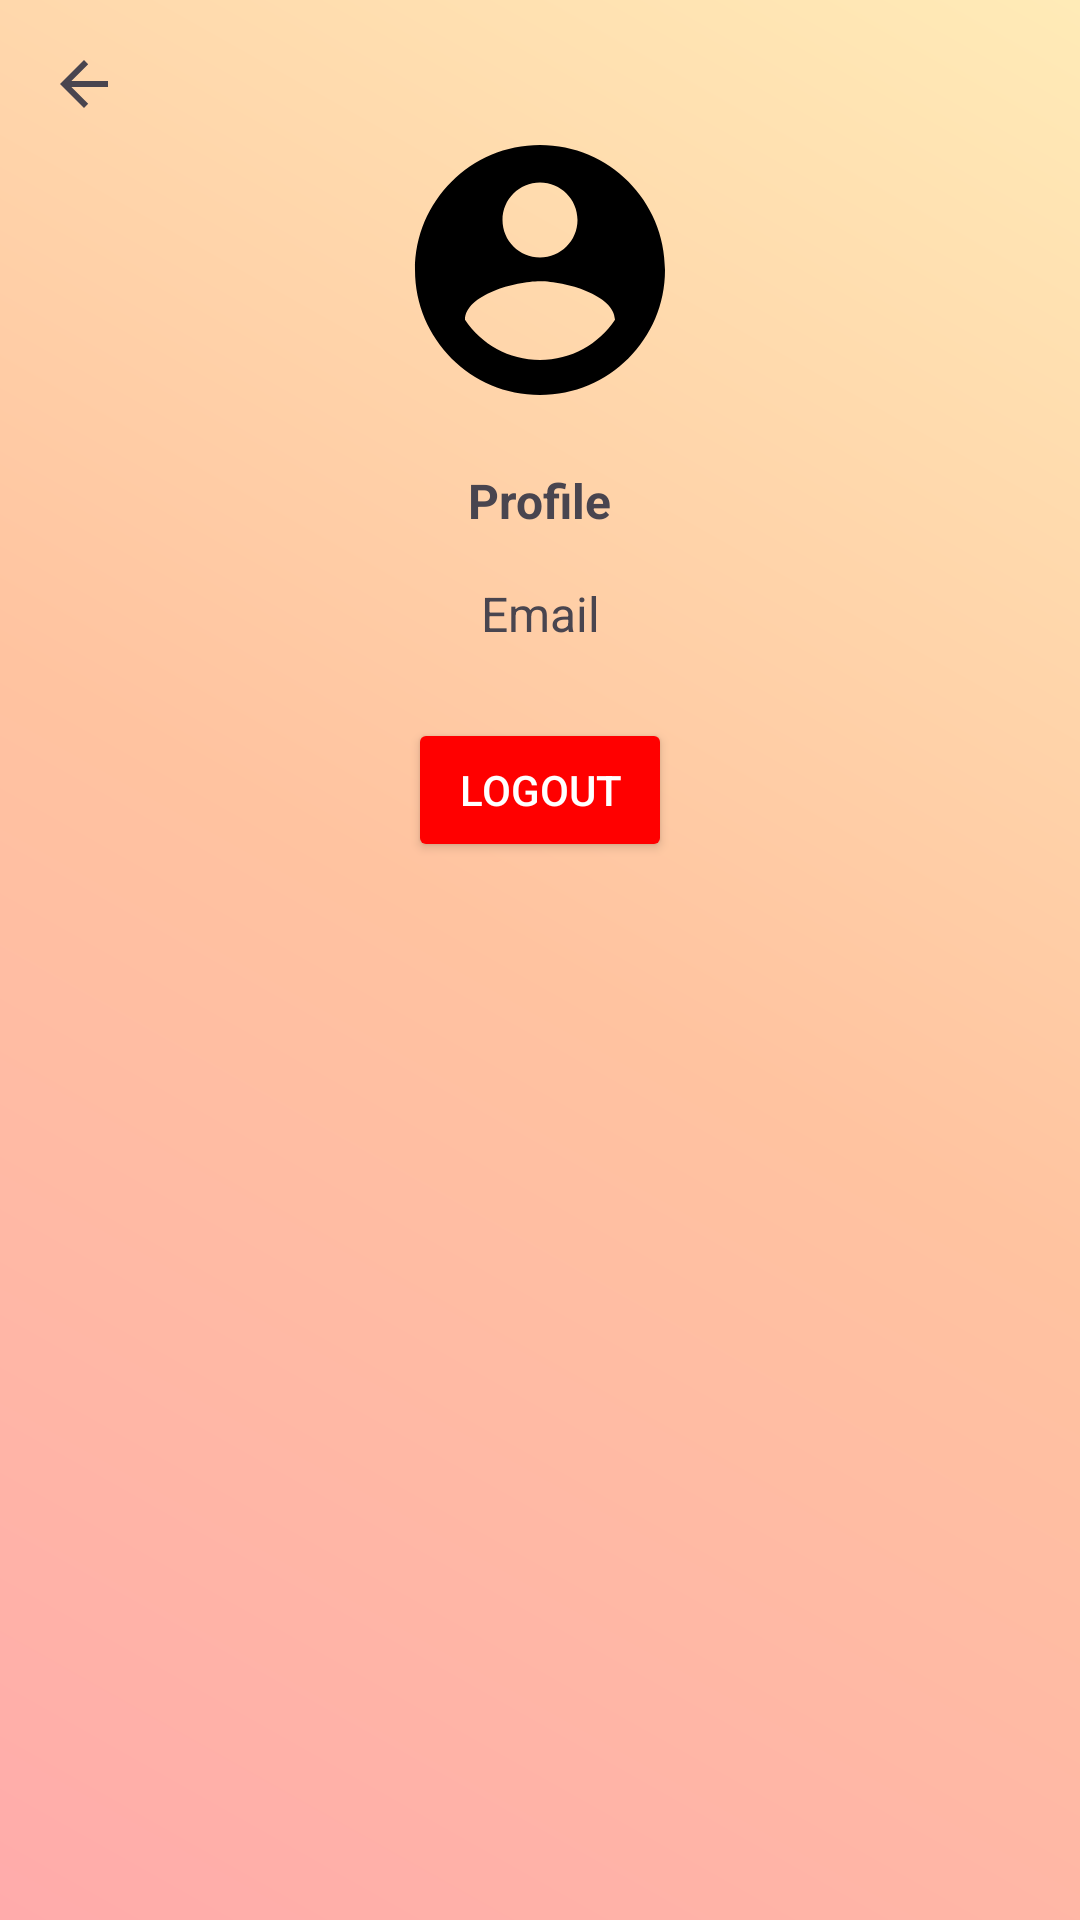

Screen size 1080w x 1920h. Icon name, then its center in pixels as point (x, y):
username: point (540, 270)
